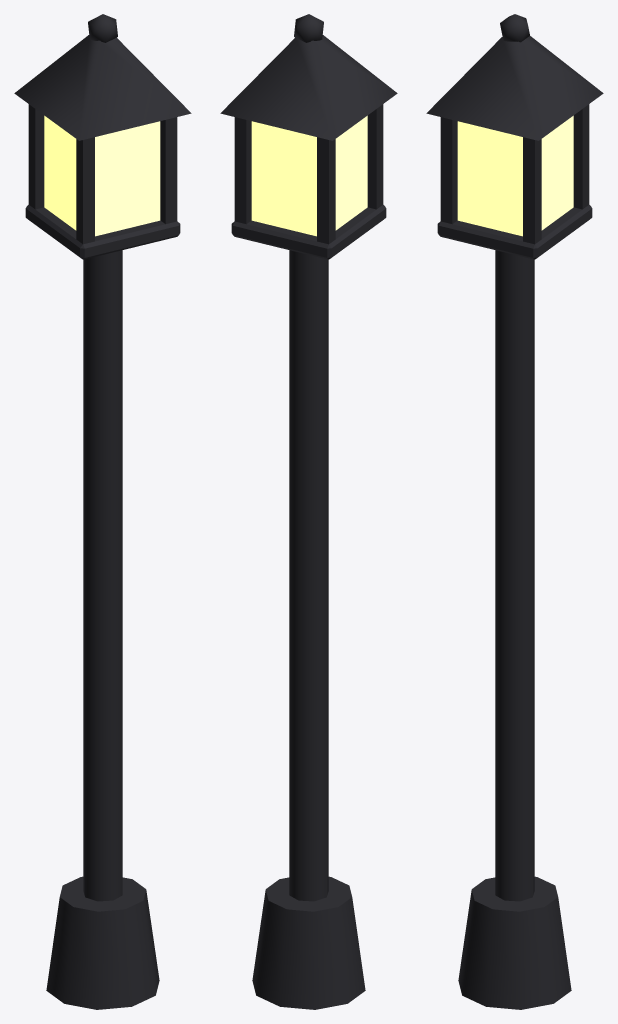
The model's file is poste_luz.glb.
3 renders of one model, left to right at view 1: azimuth 30°, elevation 25°; view 2: azimuth 150°, elevation 25°; view 3: azimuth 330°, elevation 25°, orthographic.
Parts seen in each view (by area): view 1: poste_luz; view 2: poste_luz; view 3: poste_luz.
Boxes of the visible parts, box(x1,y1,x2,y2) form: poste_luz: box(14, 14, 191, 1009); poste_luz: box(220, 14, 397, 1009); poste_luz: box(426, 14, 603, 1009).
Size of the model in its own units: 0.3818 by 3.15 by 0.3818.
